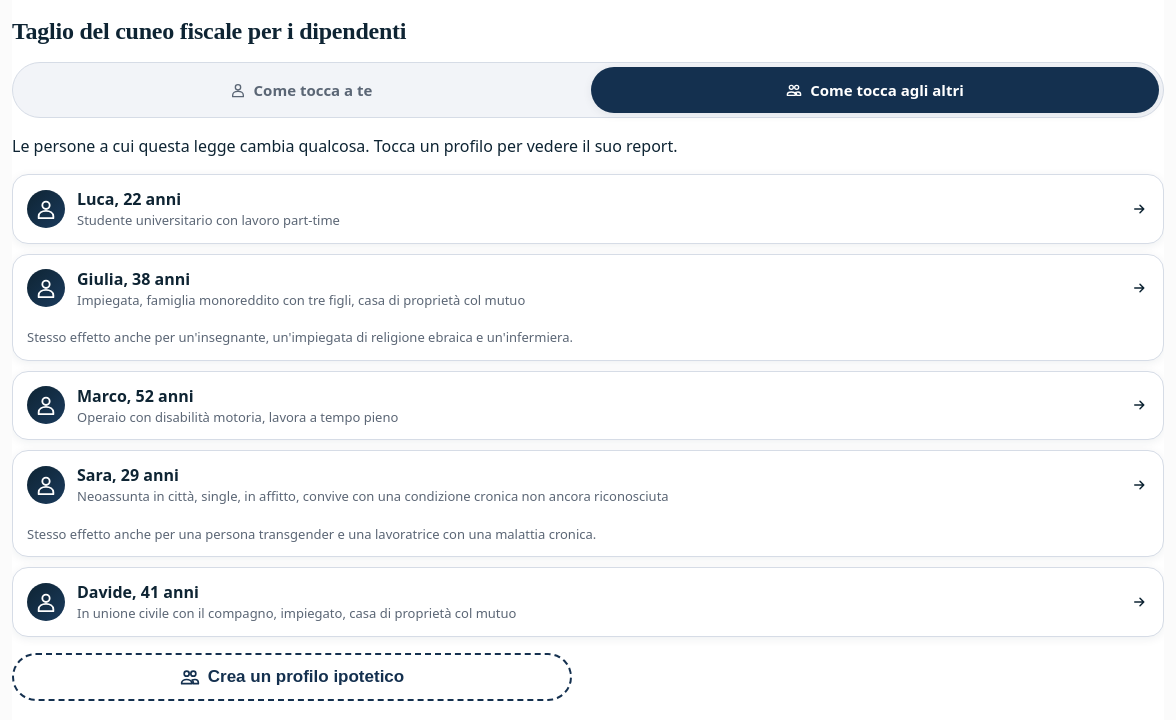
Scenario: di base i profili mostrano solo nome e caratteristiche; il report appare al clic
Expected: the text "stima al 1° anno" is not shown
What coordinates should you click on to do the following:
click the button "Luca, 22 anni Studente universitario con lavoro part-time"
I would click on:
 (46, 209)
Its box is [13,175,1163,243].
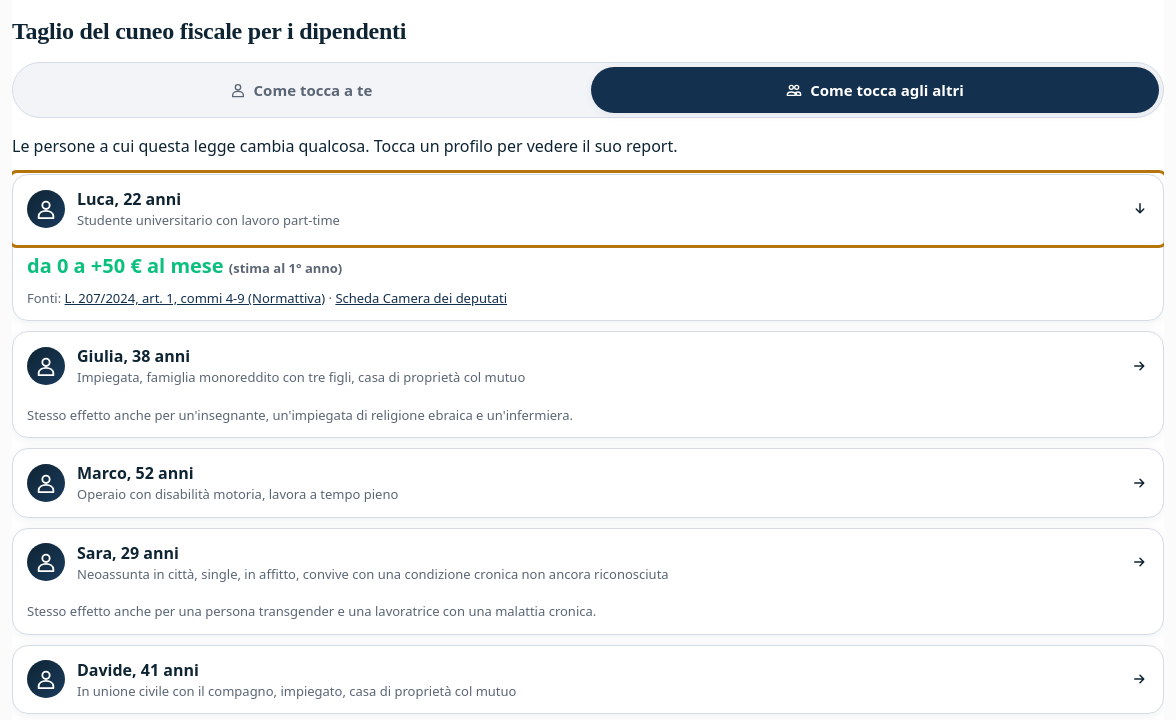
Expected: the text "(stima al 1° anno)" is shown, [229,259,342,277]
Expected: the text "da 0 a +50 € al mese (stima al 1° anno)" is shown, [27,252,342,279]
